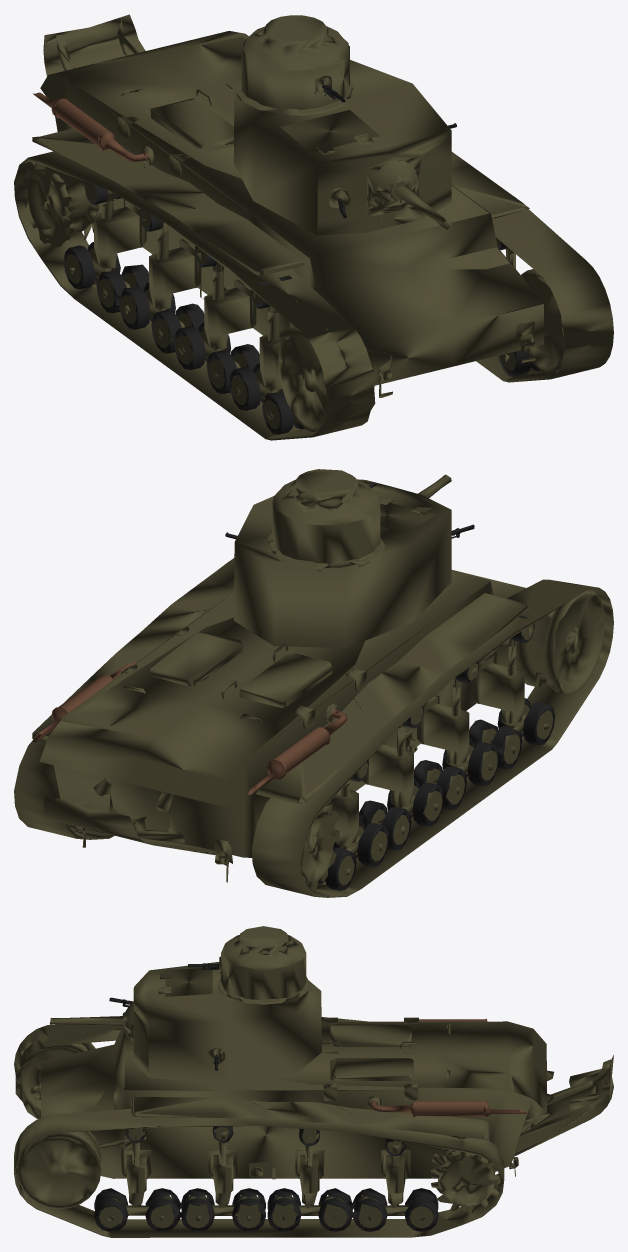
The model's file is t12_mobil.glb.
The picture shows the model from 3 angles, top to bottom: view 1: azimuth 30°, elevation 25°; view 2: azimuth 150°, elevation 25°; view 3: azimuth 270°, elevation 25°; orthographic projection. The views are drawn at different scales.
Parts seen in each view (by area): view 1: T-26 BODY, T-26 TOWER; view 2: T-26 BODY, T-26 TOWER; view 3: T-26 BODY, T-26 TOWER.
Part boxes in pixels (x1,y1,x2,y2): T-26 BODY: (14,14,613,440); T-26 TOWER: (233,15,456,235); T-26 BODY: (14,558,613,897); T-26 TOWER: (225,469,474,647); T-26 BODY: (14,1017,613,1237); T-26 TOWER: (50,926,321,1082).
Size of the model in its own units: 2.59 by 2.66 by 6.
